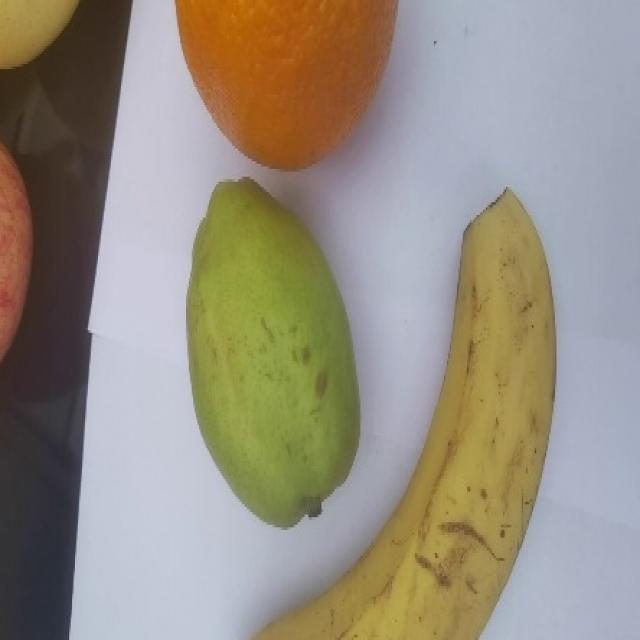Apple: (0, 137, 34, 364)
Banana: (249, 185, 557, 639)
Orange: (174, 0, 399, 171)
